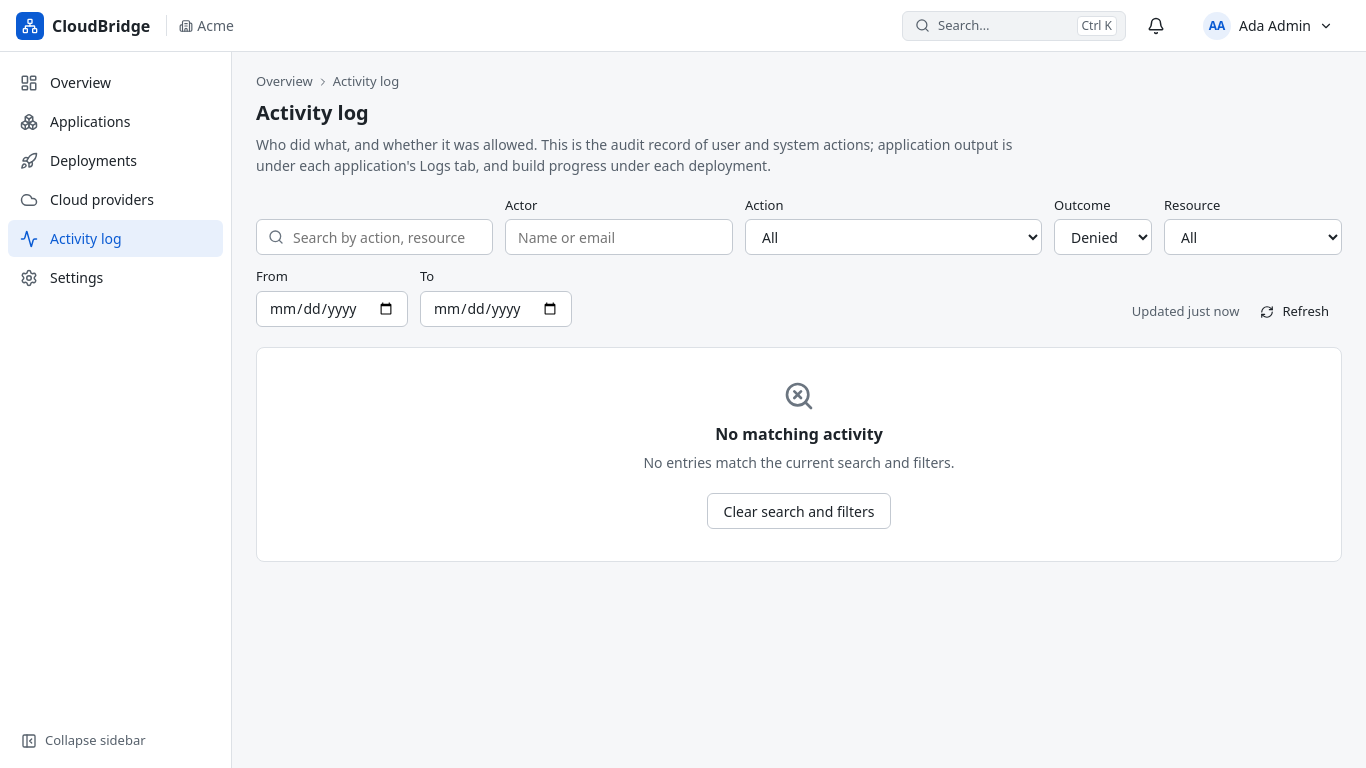
Test: activity log › offers to clear filters when nothing matches
The image size is (1366, 768).
Click the button "Clear search and filters".
click(799, 511)  # box [707,493,891,529]
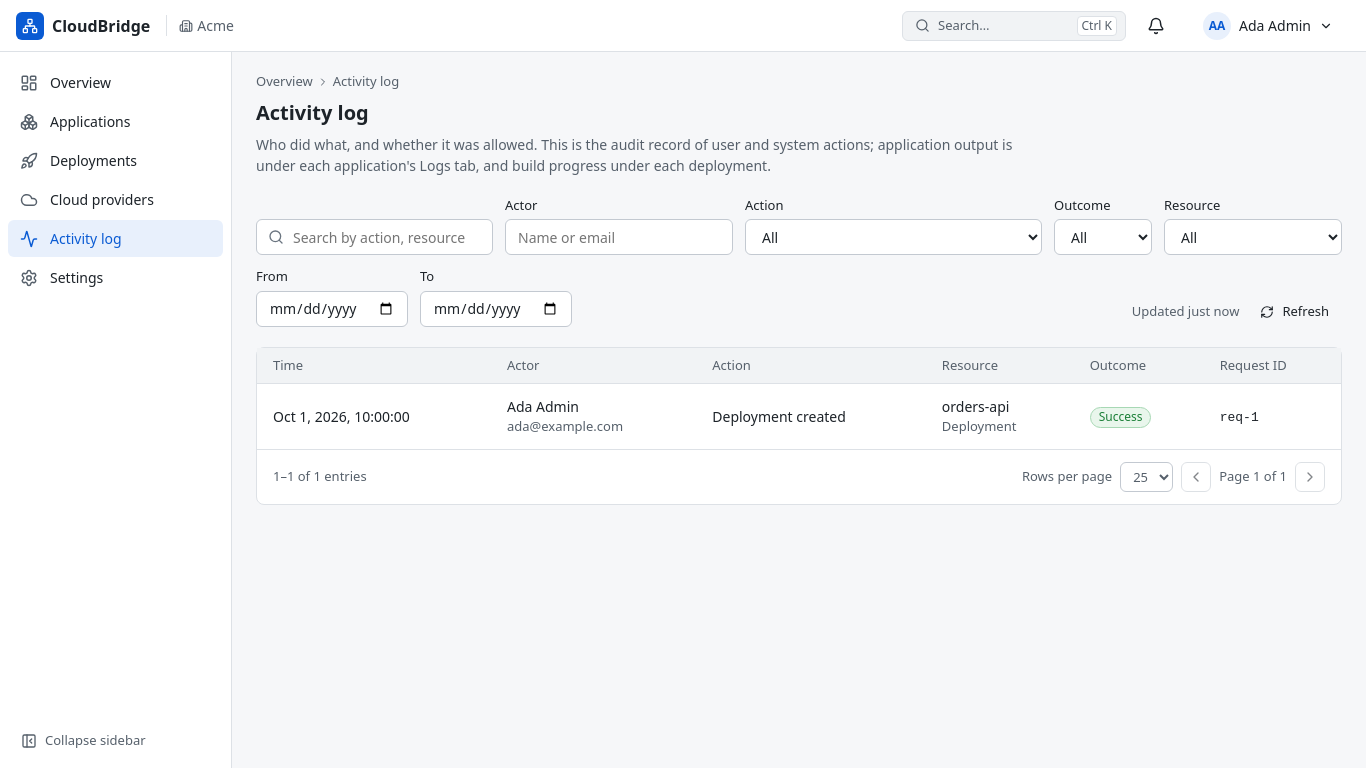
expect the table named "Activity log" is shown: met, box [257,348,1341,448]
